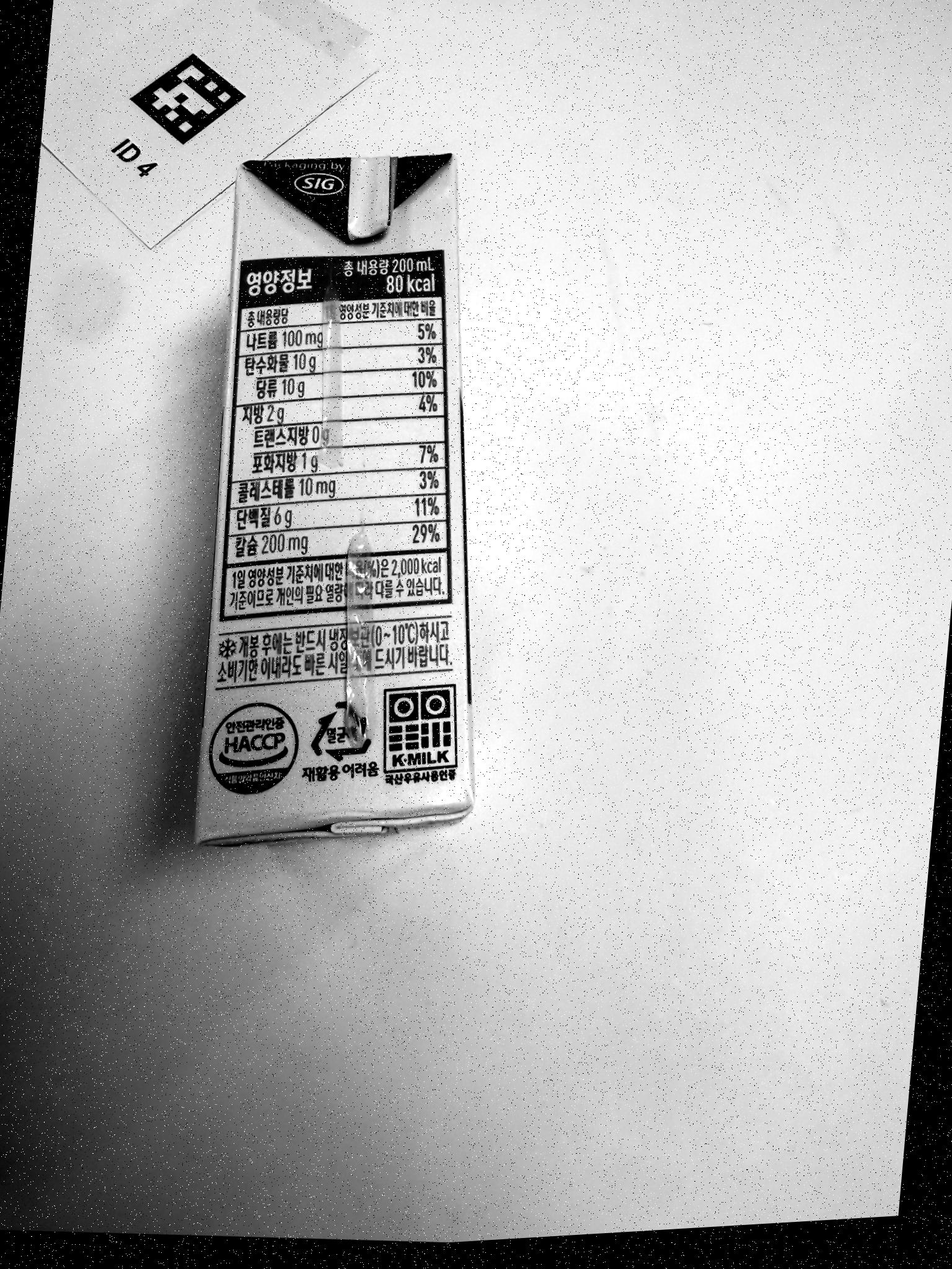milk_blue: (196, 156, 474, 846)
